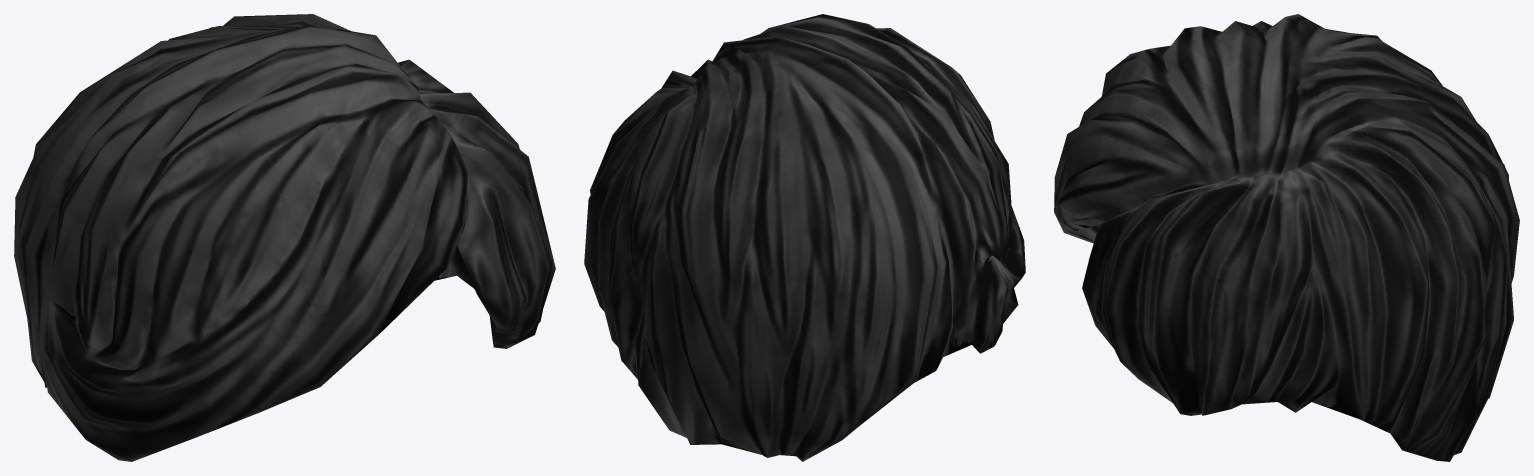
File: AF_M_hair_11.fbx
The picture shows the model from 3 angles, left to right: view 1: azimuth 30°, elevation 25°; view 2: azimuth 150°, elevation 25°; view 3: azimuth 270°, elevation 25°; orthographic projection. The views are drawn at different scales.
Visible parts, largest first — view 1: AF_M_hair_11; view 2: AF_M_hair_11; view 3: AF_M_hair_11.
Boxes of the visible parts, x1=… form: AF_M_hair_11: x1=14, y1=14, x2=555, y2=461; AF_M_hair_11: x1=584, y1=14, x2=1025, y2=461; AF_M_hair_11: x1=1054, y1=14, x2=1519, y2=461.
Bounding box in the file's own units: 773 × 684 × 728.
